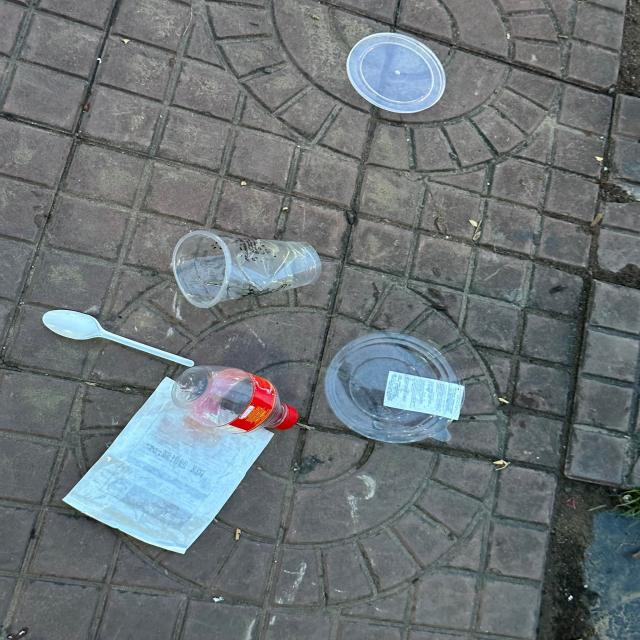bottle: (171, 365, 299, 435)
lid: (326, 329, 466, 444), (346, 33, 448, 115)
packet: (63, 376, 273, 555)
plastic glass: (171, 230, 323, 308)
plastic utensil: (42, 308, 195, 366)
